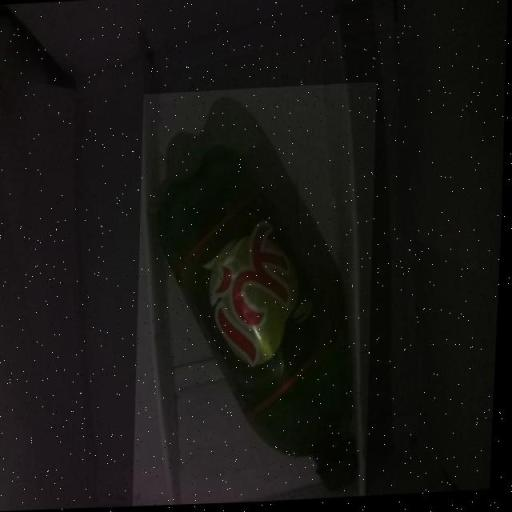plastic: (129, 84, 384, 508)
